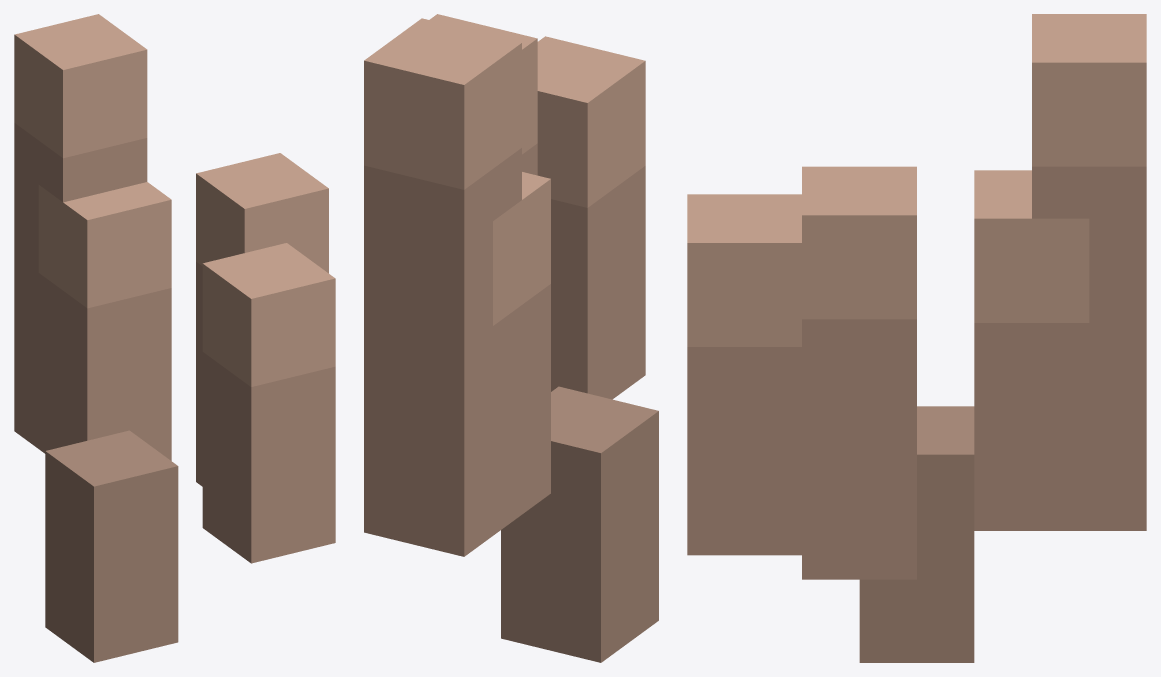
Rendered from coral_cerebro_05.glb.
The picture shows the model from 3 angles, left to right: view 1: azimuth 30°, elevation 25°; view 2: azimuth 150°, elevation 25°; view 3: azimuth 270°, elevation 25°; orthographic projection. The views are drawn at different scales.
Visible parts, largest first — view 1: coral_cerebro_05; view 2: coral_cerebro_05; view 3: coral_cerebro_05.
Boxes of the visible parts, left/top/right/bottom form: coral_cerebro_05: left=14, top=14, right=335, bottom=662; coral_cerebro_05: left=364, top=14, right=658, bottom=662; coral_cerebro_05: left=687, top=14, right=1146, bottom=662.
Size of the model in its own units: 0.5 by 1.2 by 0.8.
